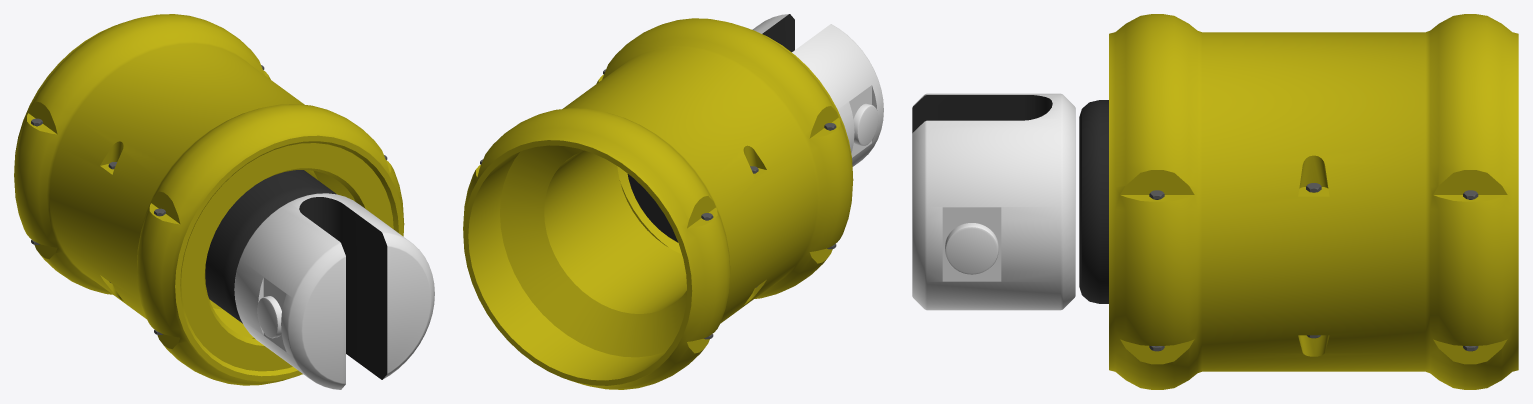
Rendered from WindfarmConnector.fbx.
3 renders of one model, left to right at view 1: azimuth 30°, elevation 25°; view 2: azimuth 150°, elevation 25°; view 3: azimuth 270°, elevation 25°, orthographic. The views are drawn at different scales.
Visible parts, largest first — view 1: Cylinder, Cylinder.001; view 2: Cylinder, Cylinder.001; view 3: Cylinder, Cylinder.001.
Part boxes in pixels (<box>): Cylinder: <box>14,14,434,389</box>; Cylinder.001: <box>257,296,281,338</box>; Cylinder: <box>463,14,883,389</box>; Cylinder.001: <box>853,103,878,145</box>; Cylinder: <box>912,14,1518,389</box>; Cylinder.001: <box>945,223,998,274</box>.
Bounding box in the file's own units: 357 × 221 × 221.
